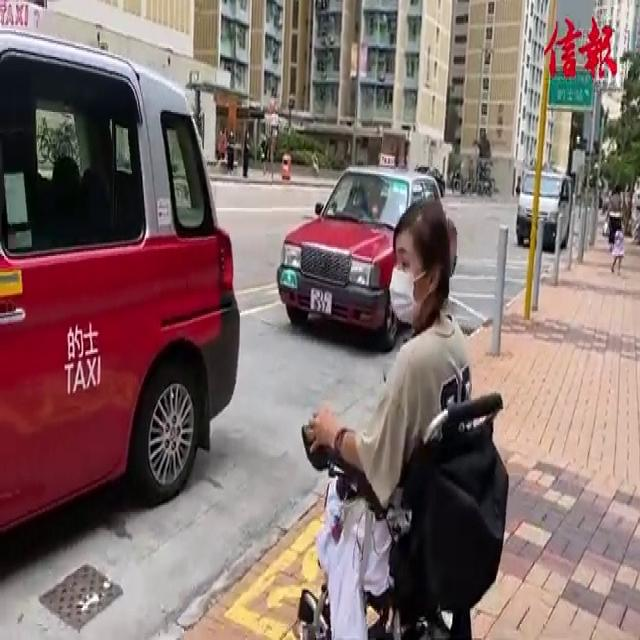wheelchairs: (292, 350, 511, 640)
